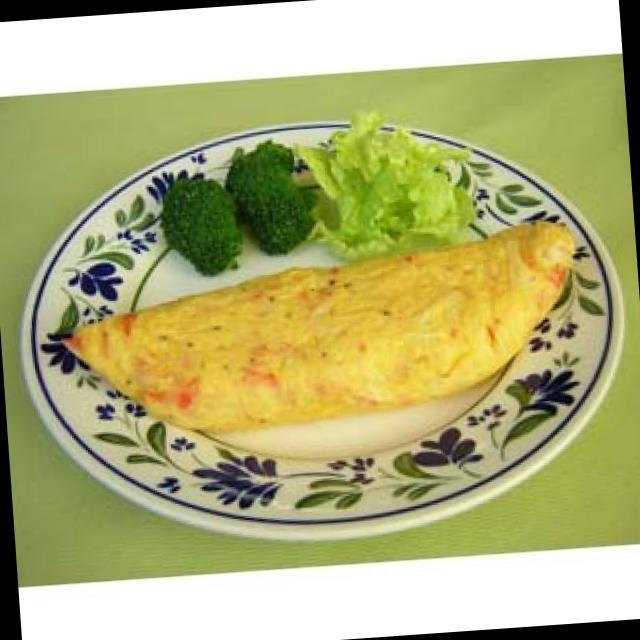Omelet: (34, 234, 591, 442)
